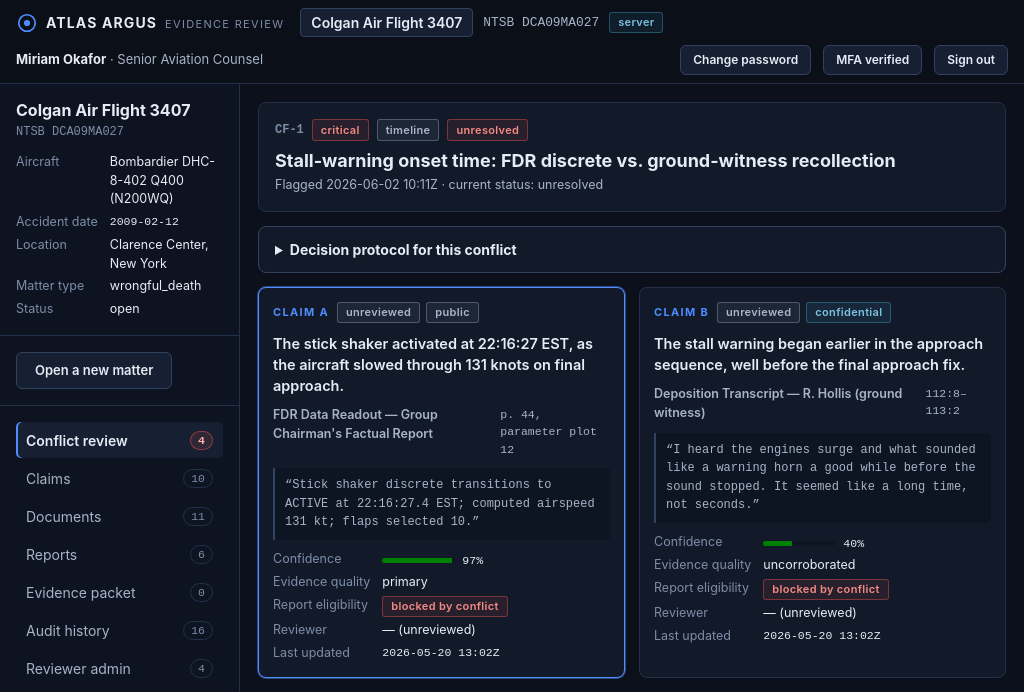
Test: server mode › opens a stored packet from the export view
Click the button "Evidence packet 0". click: click(120, 592)
box: [16,574,223,610]
(page scrolled)
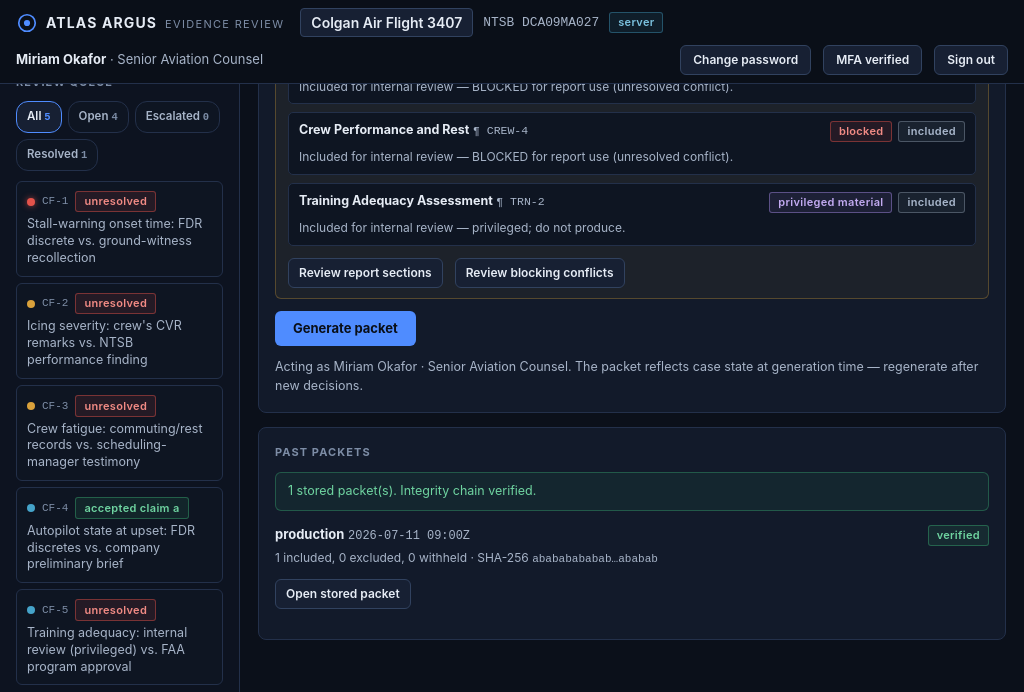
Now the text "1 stored packet(s). Integrity chain verified." is shown, box [275,472,989,511]
Click the button "Open stored packet". click: click(343, 594)
box: [275,579,411,609]
(page scrolled)
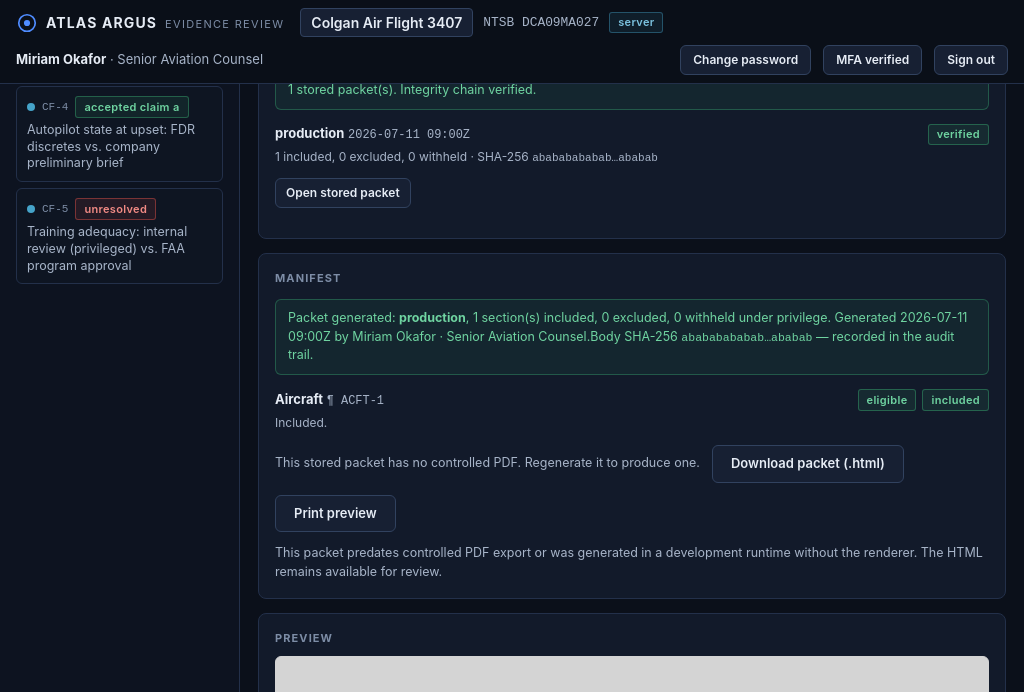
Now the element named "Packet manifest" is shown, box [258,253,1006,598]
